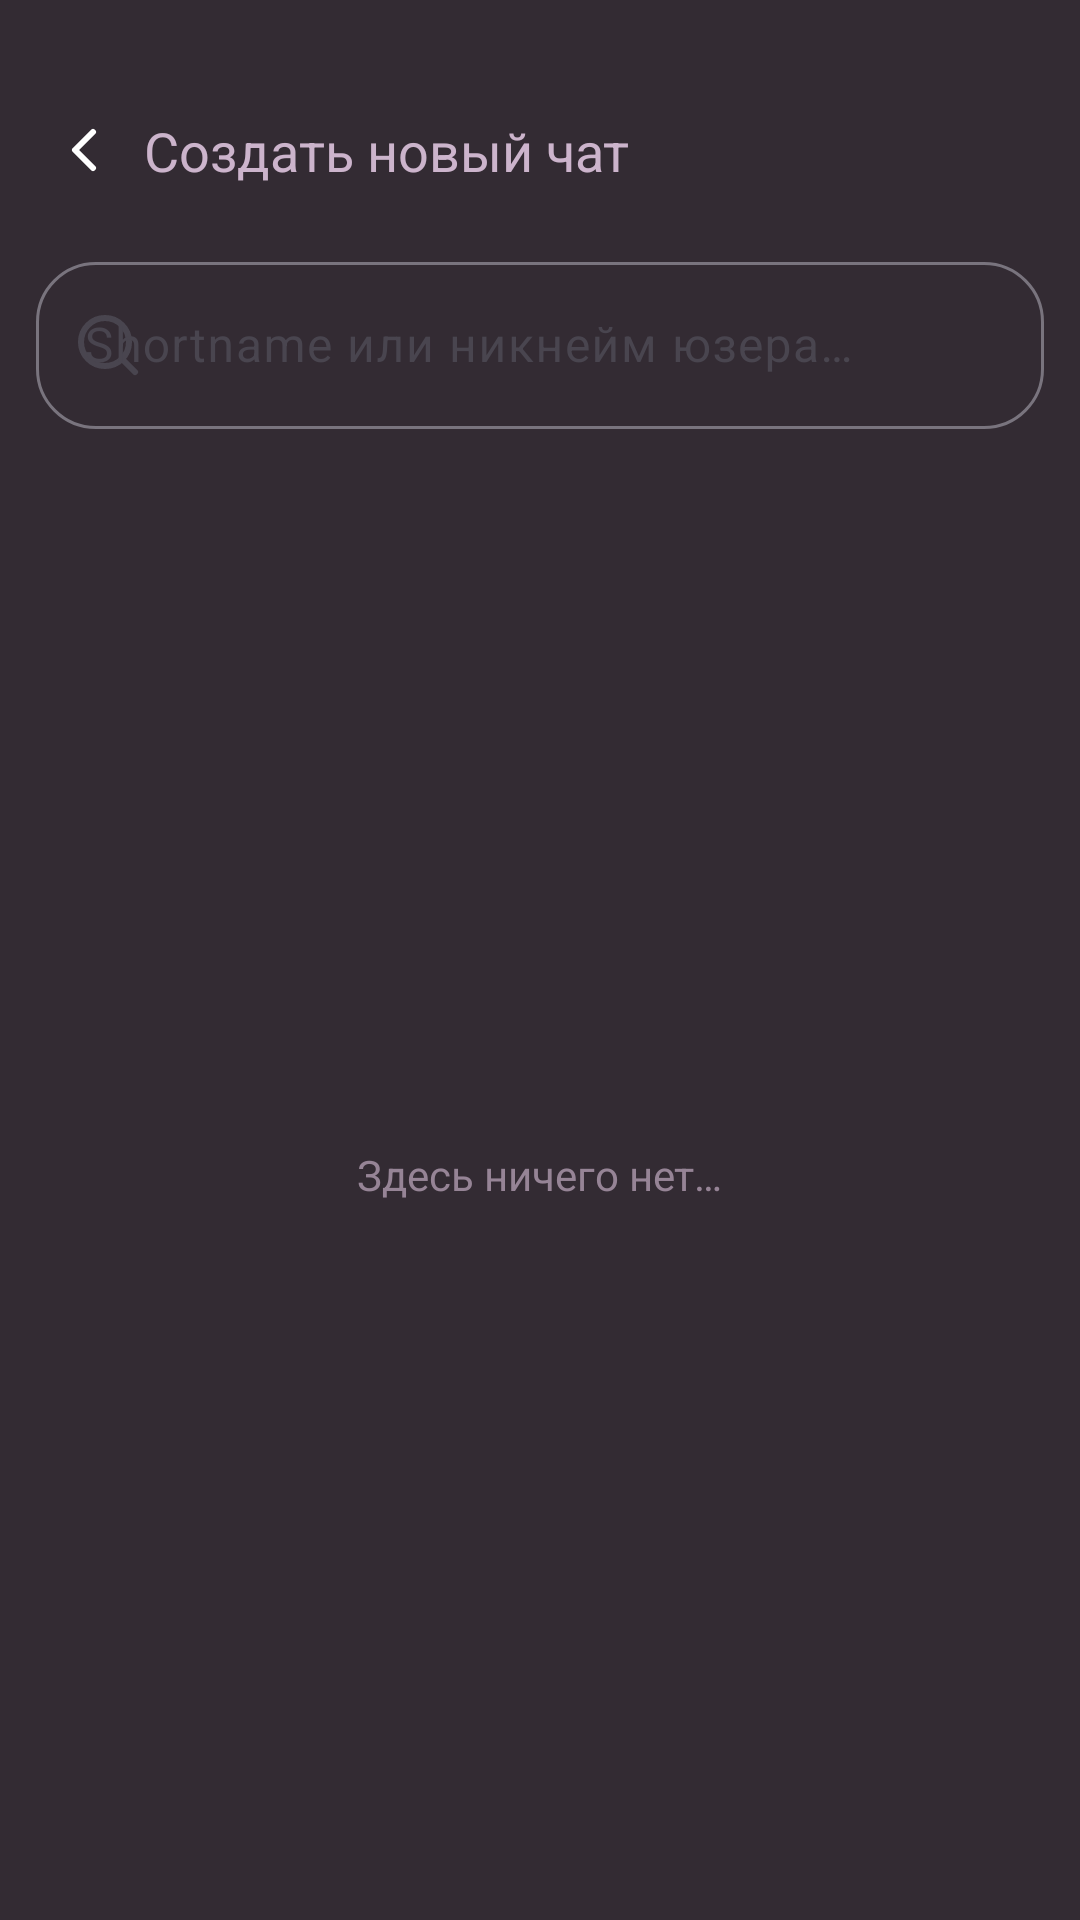

Where icons sit on this 1080×1920 app screen, as (x1, y1, x2, y2):
arrow left low: (72, 129, 96, 171)
